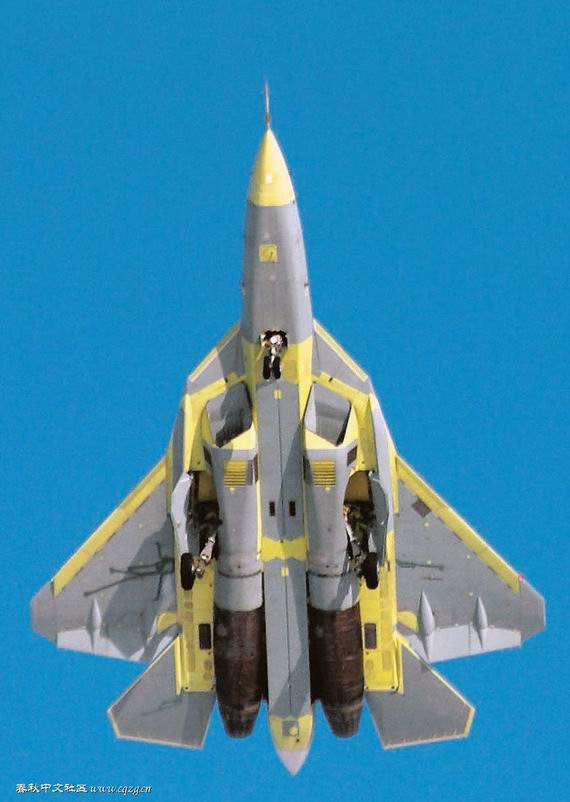airplane: (13, 74, 547, 763)
